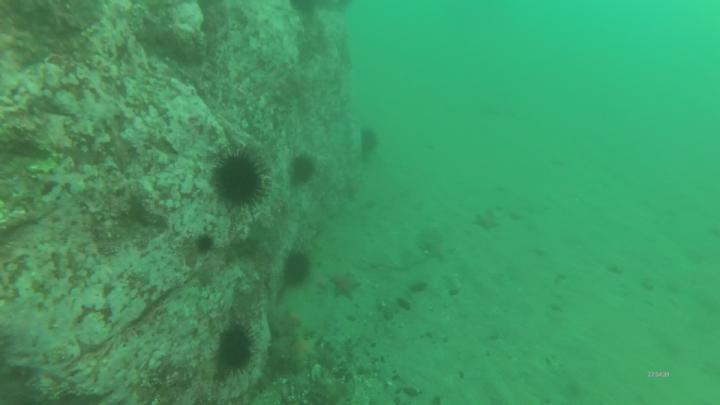echinus: (214, 157, 264, 207), (220, 330, 251, 376), (285, 254, 310, 285), (294, 154, 316, 187), (361, 128, 377, 152), (197, 233, 214, 253)
starfish: (292, 335, 322, 365), (332, 274, 359, 295), (475, 212, 499, 231)
